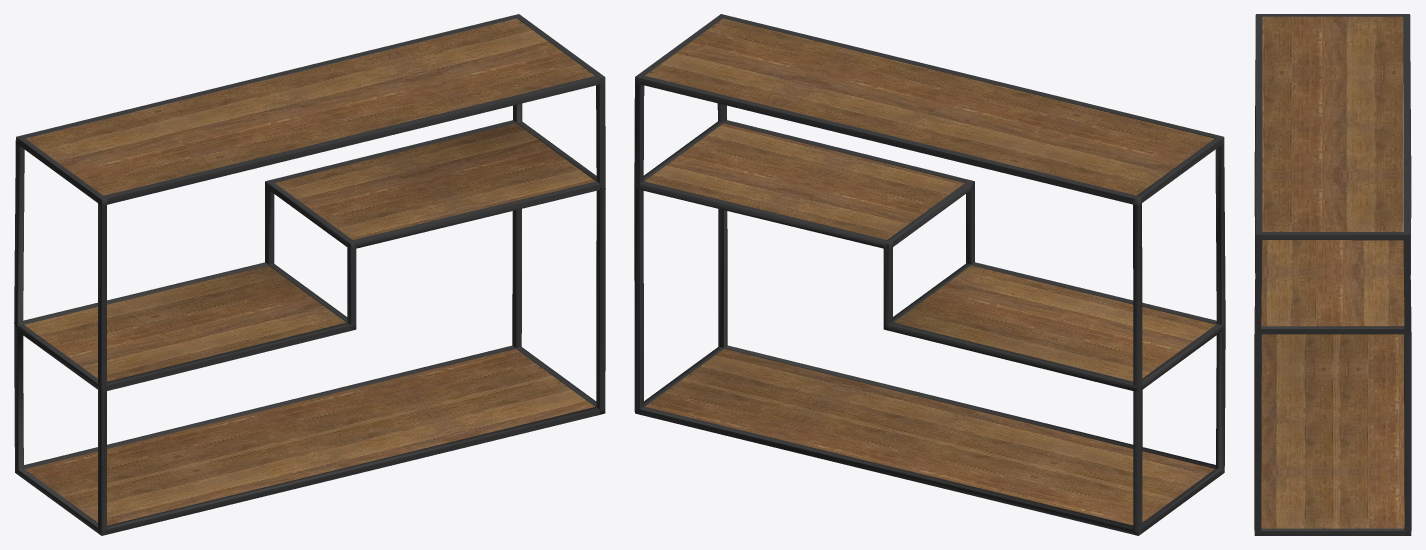
The model's file is B07B7J8GGS.glb.
The picture shows the model from 3 angles, left to right: view 1: azimuth 30°, elevation 25°; view 2: azimuth 150°, elevation 25°; view 3: azimuth 270°, elevation 25°; orthographic projection. The views are drawn at different scales.
Parts seen in each view (by area): view 1: RootNode; view 2: RootNode; view 3: RootNode.
Boxes of the visible parts, x1,y1,x2,y2 form: RootNode: (14,14,605,535); RootNode: (634,14,1225,535); RootNode: (1254,14,1411,535).
Bounding box in the file's own units: 1.2 × 0.7649 × 0.3606.
1 material, 1 textured.
